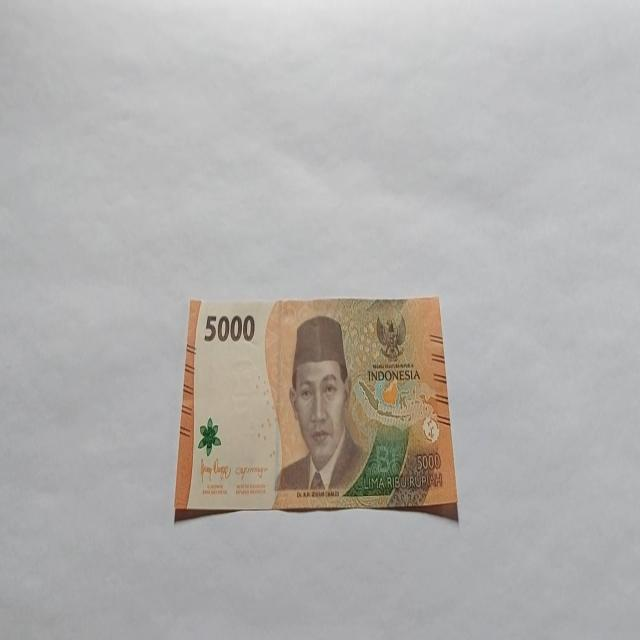lima ribu rupiah: (173, 294, 459, 524), (274, 314, 366, 494)
